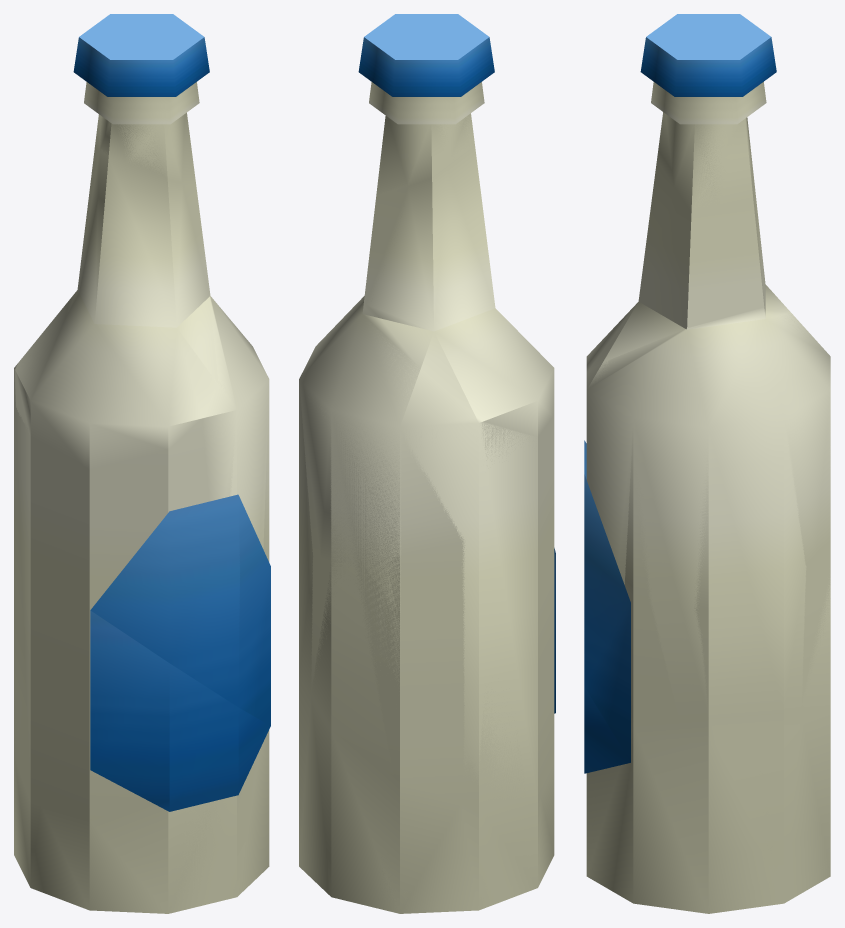
The model's file is Cat_Bottle_Breakable.fbx.
3 views of the same model, side by side, from view 1: azimuth 30°, elevation 25°; view 2: azimuth 150°, elevation 25°; view 3: azimuth 270°, elevation 25° (orthographic).
Parts seen in each view (by area): view 1: Cat_Bottle_Breakable (×2), Cat_Bottle_Breakable1, Cat_Bottle_Breakable2, Cat_Bottle_Breakable4, Cat_Bottle_Breakable3; view 2: Cat_Bottle_Breakable (×2), Cat_Bottle_Breakable1, Cat_Bottle_Breakable2, Cat_Bottle_Breakable4, Cat_Bottle_Breakable3; view 3: Cat_Bottle_Breakable (×2), Cat_Bottle_Breakable1, Cat_Bottle_Breakable2, Cat_Bottle_Breakable3, Cat_Bottle_Breakable4.
Part boxes in pixels (bbox=[...]): Cat_Bottle_Breakable (×2): bbox=[14, 14, 270, 913]; Cat_Bottle_Breakable1: bbox=[14, 495, 270, 819]; Cat_Bottle_Breakable2: bbox=[14, 296, 269, 558]; Cat_Bottle_Breakable4: bbox=[16, 721, 270, 913]; Cat_Bottle_Breakable3: bbox=[20, 148, 217, 466]; Cat_Bottle_Breakable (×2): bbox=[299, 14, 555, 913]; Cat_Bottle_Breakable1: bbox=[299, 491, 555, 808]; Cat_Bottle_Breakable2: bbox=[299, 316, 554, 561]; Cat_Bottle_Breakable4: bbox=[299, 680, 553, 913]; Cat_Bottle_Breakable3: bbox=[364, 167, 549, 432]; Cat_Bottle_Breakable (×2): bbox=[584, 14, 830, 913]; Cat_Bottle_Breakable1: bbox=[584, 441, 830, 725]; Cat_Bottle_Breakable2: bbox=[587, 307, 830, 609]; Cat_Bottle_Breakable3: bbox=[586, 188, 763, 366]; Cat_Bottle_Breakable4: bbox=[584, 713, 830, 913].
Bounding box in the file's own units: 10.72 × 38.35 × 10.3.
Materials: 2 (2 with a texture image).
